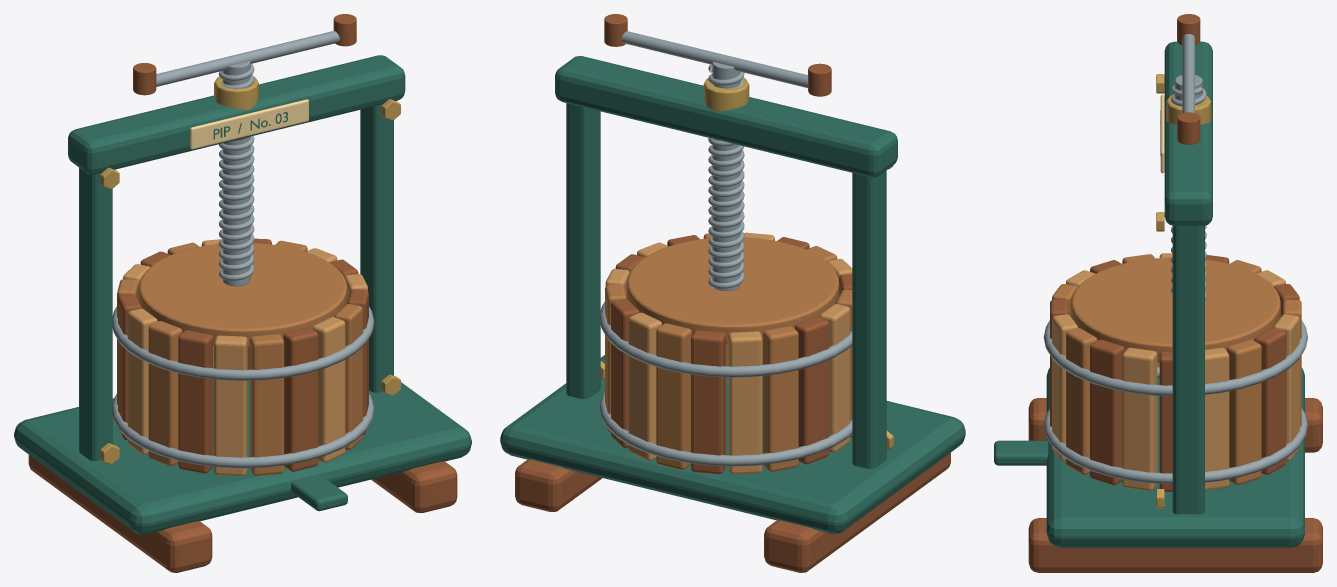
File: prop.glb
3 renders of one model, left to right at view 1: azimuth 30°, elevation 25°; view 2: azimuth 150°, elevation 25°; view 3: azimuth 270°, elevation 25°, orthographic.
Visible parts, largest first — view 1: Catch tray, Pressed platen, Cast bridge, Cast standard, Cast standard.001, Sled foot, Beech stave.012, Beech stave.014, Beech stave.015, Beech stave.013, Helical screw thread, Beech stave.011 (+15 smaller); view 2: Catch tray, Cast bridge, Pressed platen, Cast standard, Cast standard.001, Sled foot, Beech stave.008, Beech stave.006, Beech stave.007, Beech stave.005, Helical screw thread, Beech stave.009 (+12 smaller); view 3: Catch tray, Pressed platen, Cast standard.001, Sled foot.001, Cast bridge, Beech stave.019, Beech stave.002, Beech stave.018, Basket hoop, Beech stave.003, Basket hoop.001, Beech stave.001 (+13 smaller).
Boxes of the visible parts, bbox=[...] form: Catch tray: bbox=[14, 379, 471, 534]; Pressed platen: bbox=[138, 243, 347, 347]; Cast bridge: bbox=[68, 55, 405, 174]; Cast standard: bbox=[79, 167, 112, 461]; Cast standard.001: bbox=[360, 104, 393, 392]; Sled foot: bbox=[28, 455, 212, 572]; Beech stave.012: bbox=[178, 330, 213, 473]; Beech stave.014: bbox=[250, 334, 284, 475]; Beech stave.015: bbox=[283, 327, 318, 471]; Beech stave.013: bbox=[214, 335, 247, 476]; Helical screw thread: bbox=[218, 64, 254, 280]; Beech stave.011: bbox=[148, 321, 182, 466]; Catch tray: bbox=[500, 355, 965, 533]; Cast bridge: bbox=[555, 56, 897, 177]; Pressed platen: bbox=[626, 237, 839, 343]; Cast standard: bbox=[852, 170, 886, 468]; Cast standard.001: bbox=[566, 103, 600, 399]; Sled foot: bbox=[764, 452, 950, 572]; Beech stave.008: bbox=[763, 326, 798, 471]; Beech stave.006: bbox=[691, 330, 725, 474]; Beech stave.007: bbox=[728, 331, 762, 474]; Beech stave.005: bbox=[656, 323, 691, 469]; Helical screw thread: bbox=[708, 64, 744, 288]; Beech stave.009: bbox=[794, 316, 828, 464]; Catch tray: bbox=[1046, 367, 1304, 547]; Pressed platen: bbox=[1070, 257, 1280, 362]; Cast standard.001: bbox=[1172, 225, 1204, 514]; Sled foot.001: bbox=[1028, 518, 1322, 572]; Cast bridge: bbox=[1164, 41, 1212, 225]; Beech stave.019: bbox=[1122, 347, 1157, 490]; Beech stave.002: bbox=[1227, 339, 1261, 485]; Beech stave.018: bbox=[1090, 339, 1124, 485]; Basket hoop: bbox=[1043, 367, 1307, 483]; Beech stave.003: bbox=[1254, 328, 1285, 474]; Basket hoop.001: bbox=[1043, 320, 1307, 396]; Beech stave.001: bbox=[1205, 347, 1229, 490].
Bounding box in the file's own units: 2.44 × 3.02 × 2.04.
